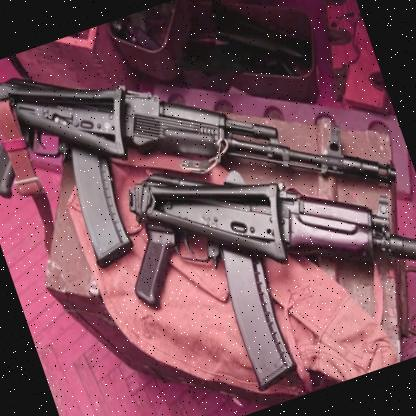rifle: (0, 0, 397, 313), (106, 92, 416, 411)
